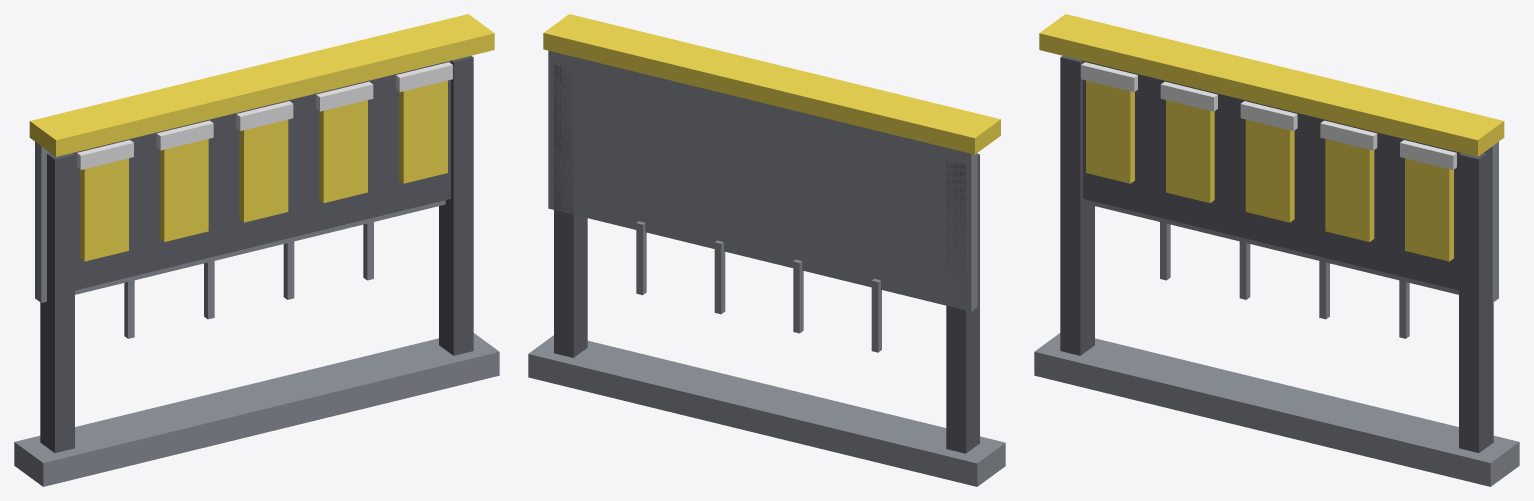
File: neon_ducks.glb
3 views of the same model, side by side, from view 1: azimuth 30°, elevation 25°; view 2: azimuth 150°, elevation 25°; view 3: azimuth 330°, elevation 25° (orthographic).
Visible parts, largest first — view 1: neon_ducks; view 2: neon_ducks; view 3: neon_ducks.
Boxes of the visible parts, x1=… form: neon_ducks: x1=14, y1=14, x2=499, y2=486; neon_ducks: x1=528, y1=14, x2=1005, y2=486; neon_ducks: x1=1034, y1=14, x2=1519, y2=486.
Size of the model in its own units: 2 by 1.45 by 0.25.
